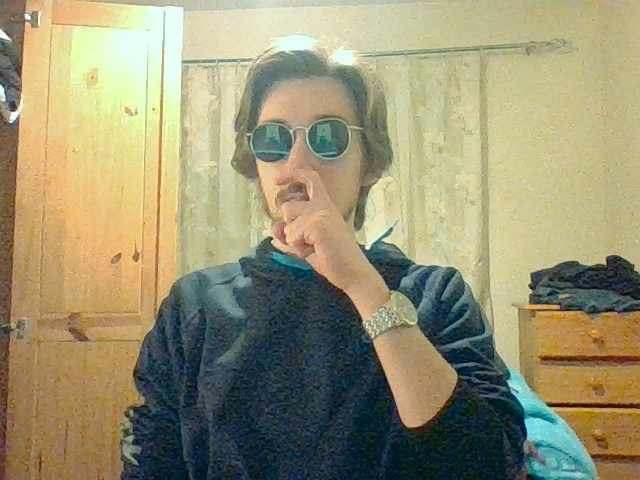sister: (270, 168, 335, 258)
